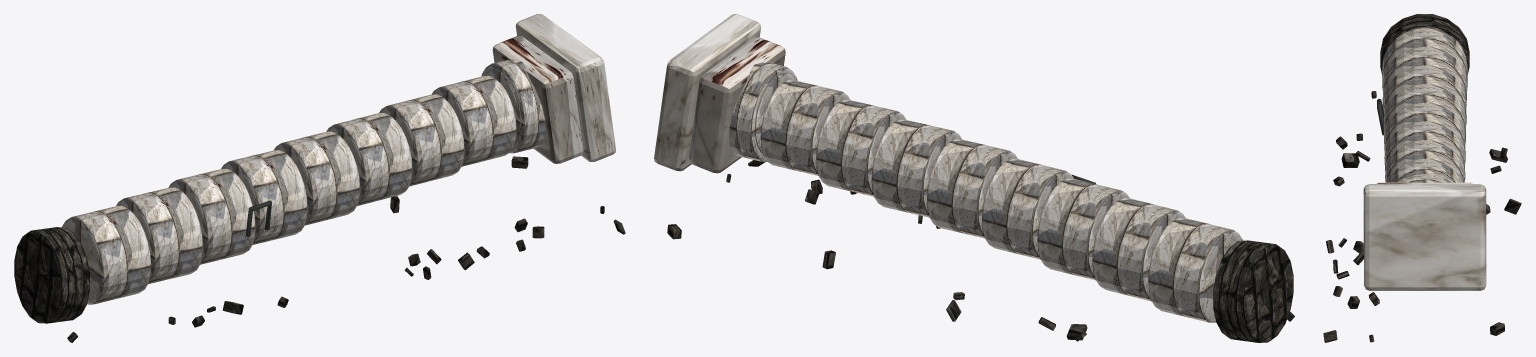
File: fallen_column_walkable_LOD0.glb
3 renders of one model, left to right at view 1: azimuth 30°, elevation 25°; view 2: azimuth 150°, elevation 25°; view 3: azimuth 270°, elevation 25°, orthographic. The views are drawn at different scales.
Parts seen in each view (by area): view 1: FracturedColumnFoot, FallenDoricDrum, DoricAbacus, FallenDoricDrum.001, DoricEchinus, FallenDoricDrum.002, FallenDoricDrum.004, FallenDoricDrum.005, FallenDoricDrum.003, FallenDoricDrum.006, FallenDoricDrum.007, CapitalNeck (+1 smaller); view 2: FracturedColumnFoot, FallenDoricDrum, DoricAbacus, FallenDoricDrum.001, DoricEchinus, FallenDoricDrum.002, FallenDoricDrum.003, FallenDoricDrum.004, FallenDoricDrum.005, FallenDoricDrum.006, FallenDoricDrum.007, CapitalNeck (+1 smaller); view 3: DoricAbacus, FallenDoricDrum, FallenDoricDrum.001, FallenDoricDrum.002, FallenDoricDrum.004, FallenDoricDrum.003, FallenDoricDrum.005, FallenDoricDrum.006, FracturedColumnFoot, FallenDoricDrum.007, CapitalNeck, ColumnRubble.005 (+5 smaller).
Boxes of the visible parts, x1,y1,x2,y2 form: FracturedColumnFoot: [14, 227, 89, 323]; FallenDoricDrum: [62, 206, 151, 304]; DoricAbacus: [515, 14, 615, 161]; FallenDoricDrum.001: [116, 187, 202, 283]; DoricEchinus: [492, 36, 583, 163]; FallenDoricDrum.002: [168, 169, 255, 264]; FallenDoricDrum.004: [274, 131, 360, 225]; FallenDoricDrum.005: [326, 113, 412, 205]; FallenDoricDrum.003: [221, 150, 307, 244]; FallenDoricDrum.006: [379, 94, 464, 186]; FallenDoricDrum.007: [431, 76, 516, 166]; CapitalNeck: [481, 59, 545, 153]; FracturedColumnFoot: [1213, 240, 1293, 342]; FallenDoricDrum: [1148, 218, 1242, 322]; DoricAbacus: [654, 14, 760, 171]; FallenDoricDrum.001: [1092, 198, 1185, 301]; DoricEchinus: [688, 37, 785, 173]; FallenDoricDrum.002: [1037, 178, 1129, 280]; FallenDoricDrum.003: [982, 159, 1073, 259]; FallenDoricDrum.004: [927, 139, 1017, 238]; FallenDoricDrum.005: [871, 119, 961, 217]; FallenDoricDrum.006: [816, 100, 906, 196]; FallenDoricDrum.007: [760, 80, 850, 175]; CapitalNeck: [729, 62, 797, 161]; DoricAbacus: [1363, 184, 1486, 290]; FallenDoricDrum: [1382, 28, 1467, 89]; FallenDoricDrum.001: [1382, 46, 1467, 108]; FallenDoricDrum.002: [1383, 65, 1466, 125]; FallenDoricDrum.004: [1384, 102, 1465, 165]; FallenDoricDrum.003: [1384, 84, 1465, 144]; FallenDoricDrum.005: [1384, 121, 1465, 182]; FallenDoricDrum.006: [1385, 140, 1464, 182]; FracturedColumnFoot: [1380, 14, 1469, 75]; FallenDoricDrum.007: [1388, 158, 1460, 182]; CapitalNeck: [1398, 173, 1451, 182]; ColumnRubble.005: [1341, 153, 1359, 167].
Size of the model in its own units: 5.8 by 1.64 by 1.91.
4 materials, 2 textured.
